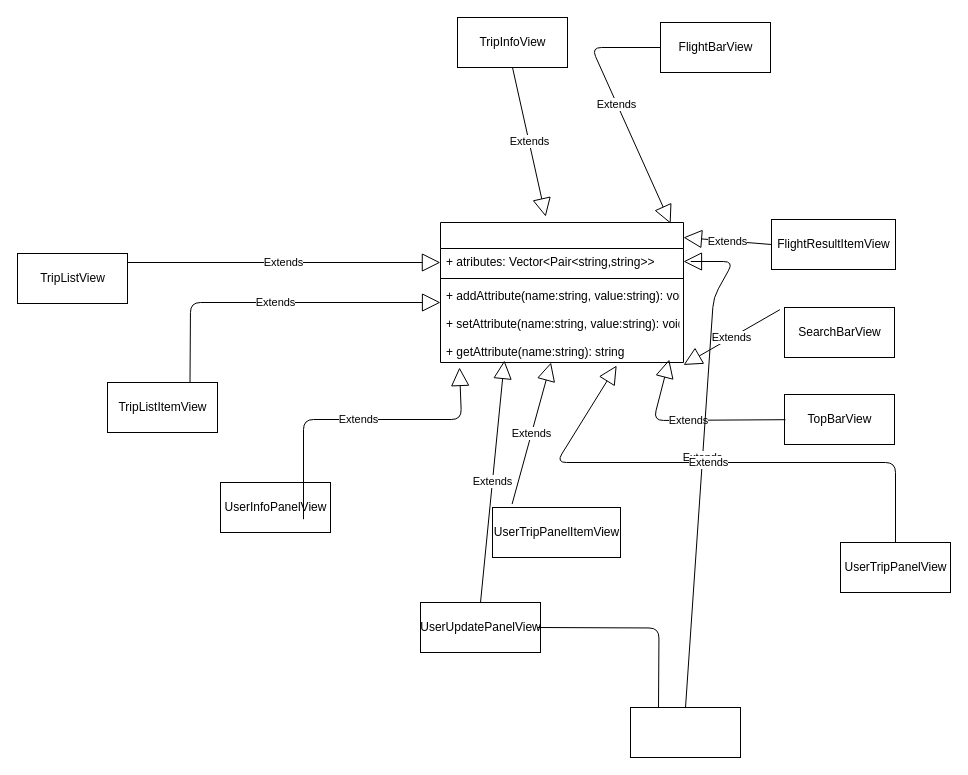
Image size: 968x775. Some labels were removed from this diagram. The shapes that lost their labels are listed below. From the top down, each one's box as (x1, y1, x2, y2) in pixels, then its label:
(440, 222, 684, 362): Model
(630, 706, 740, 758): UserPanelView
